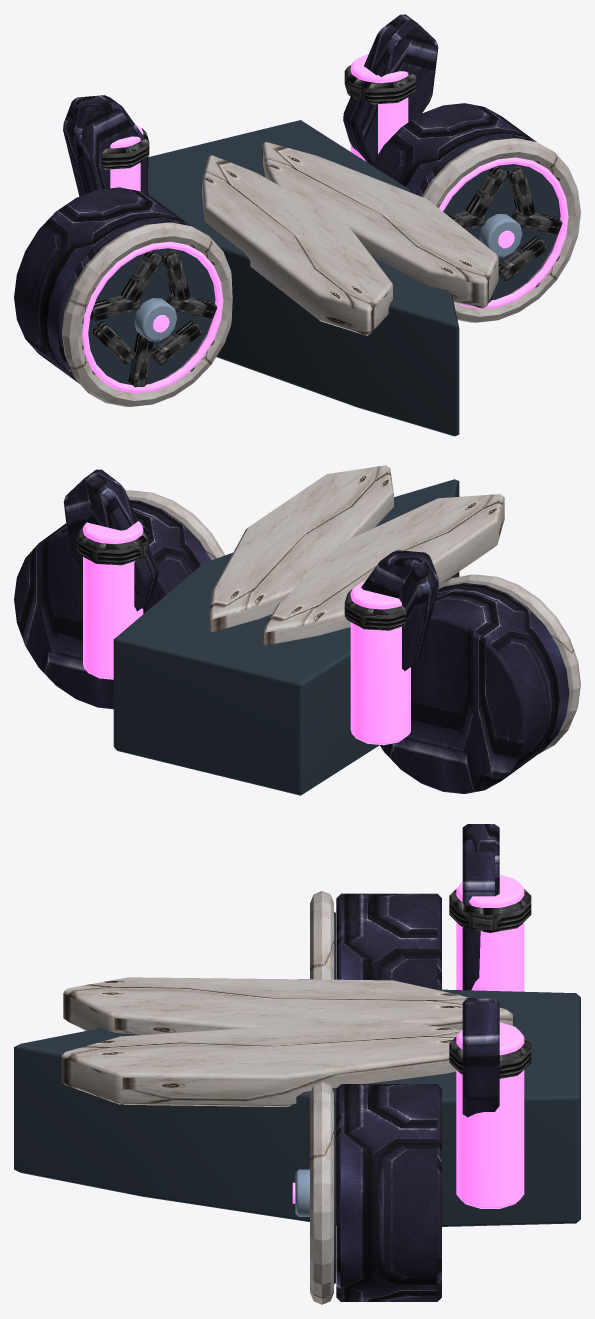
File: flyer.glb
3 views of the same model, one above another, from view 1: azimuth 30°, elevation 25°; view 2: azimuth 150°, elevation 25°; view 3: azimuth 270°, elevation 25° (orthographic). The views are drawn at different scales.
Visible parts, largest first — view 1: Split arrow nose, Pointed interceptor chassis, Swept dorsal vane, Turbine impeller blade, Turbine running light, Biome pressure capsule, Turbine hub; view 2: Swept dorsal vane, Pointed interceptor chassis, Split arrow nose, Biome pressure capsule, Turbine impeller blade; view 3: Split arrow nose, Pointed interceptor chassis, Swept dorsal vane, Biome pressure capsule, Turbine impeller blade, Turbine hub.
Boxes of the visible parts, x1,y1,x2,y2 form: Split arrow nose: (62,138,580,406); Pointed interceptor chassis: (88,120,560,436); Swept dorsal vane: (14,14,536,383); Turbine impeller blade: (90,65,562,387); Turbine running light: (82,157,568,393); Biome pressure capsule: (110,54,408,191); Turbine hub: (134,214,522,341); Swept dorsal vane: (14,469,569,793); Pointed interceptor chassis: (113,479,459,795); Split arrow nose: (125,465,580,753); Biome pressure capsule: (83,521,410,745); Turbine impeller blade: (77,526,406,630); Split arrow nose: (61,891,513,1304); Pointed interceptor chassis: (14,911,580,1284); Swept dorsal vane: (336,824,499,1301); Biome pressure capsule: (456,874,524,1208); Turbine impeller blade: (449,889,531,1078); Turbine hub: (295,979,309,1216).
Bounding box in the file's own units: 1.47 × 0.6893 × 1.23.
7 materials, 3 textured.
